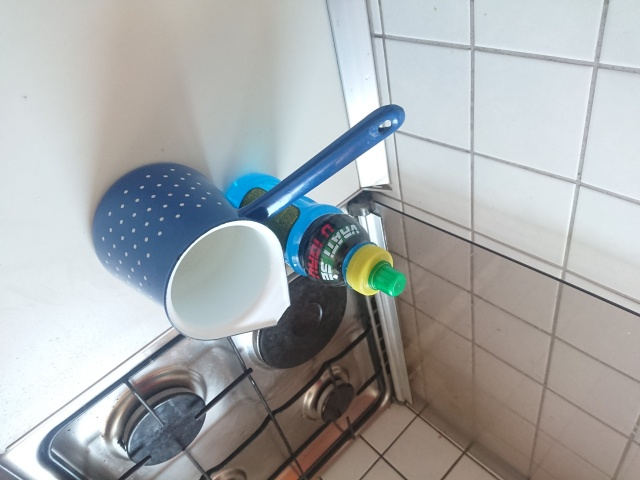Vindi Iso Sport Forest Strawberries 500mL: (219, 170, 408, 298)
